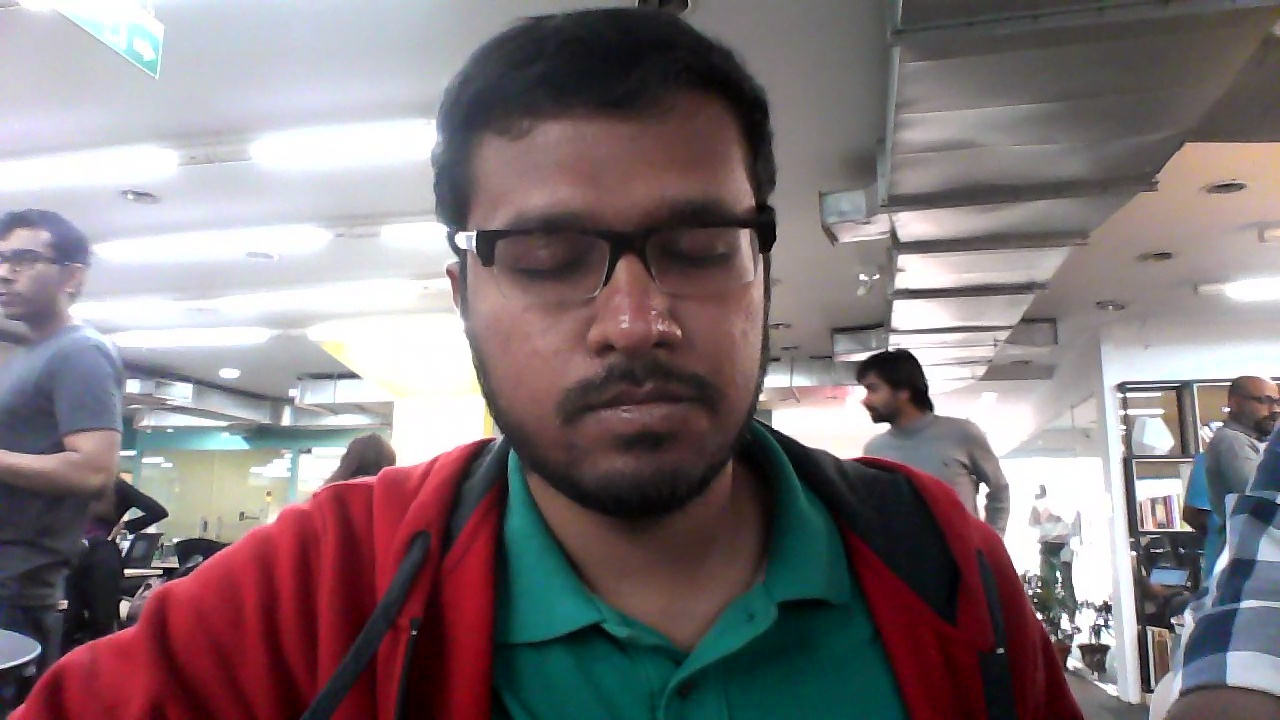closed: (433, 7, 791, 544)
